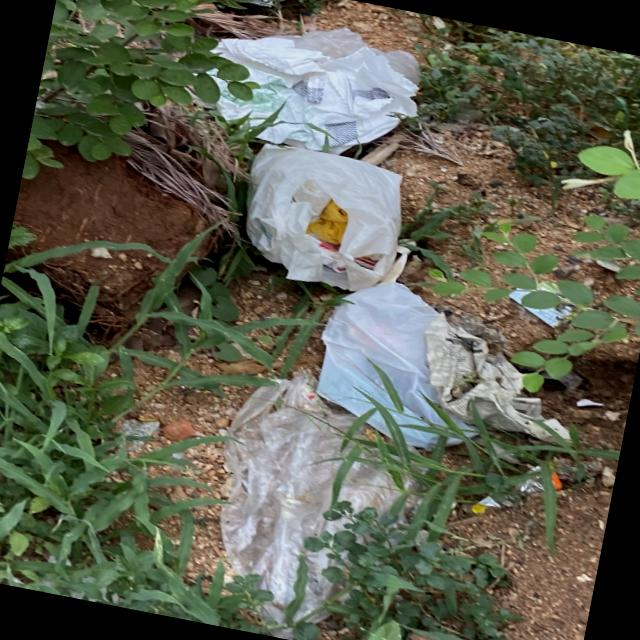giay: (425, 314, 556, 443)
nhua: (220, 374, 355, 624), (213, 27, 420, 154), (246, 144, 402, 291), (318, 282, 445, 426), (340, 464, 400, 511)
rac_huu_co: (125, 102, 247, 193), (177, 191, 225, 222)
